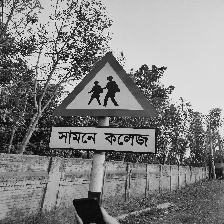College-in-front: (40, 47, 170, 160)
